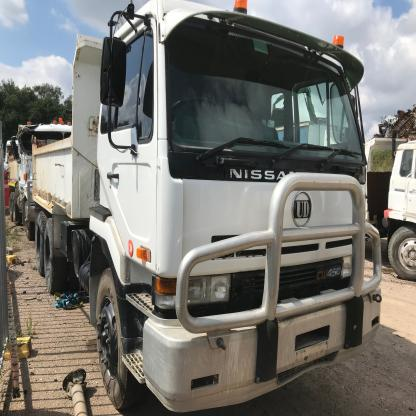dump_truck: (9, 5, 384, 416)
